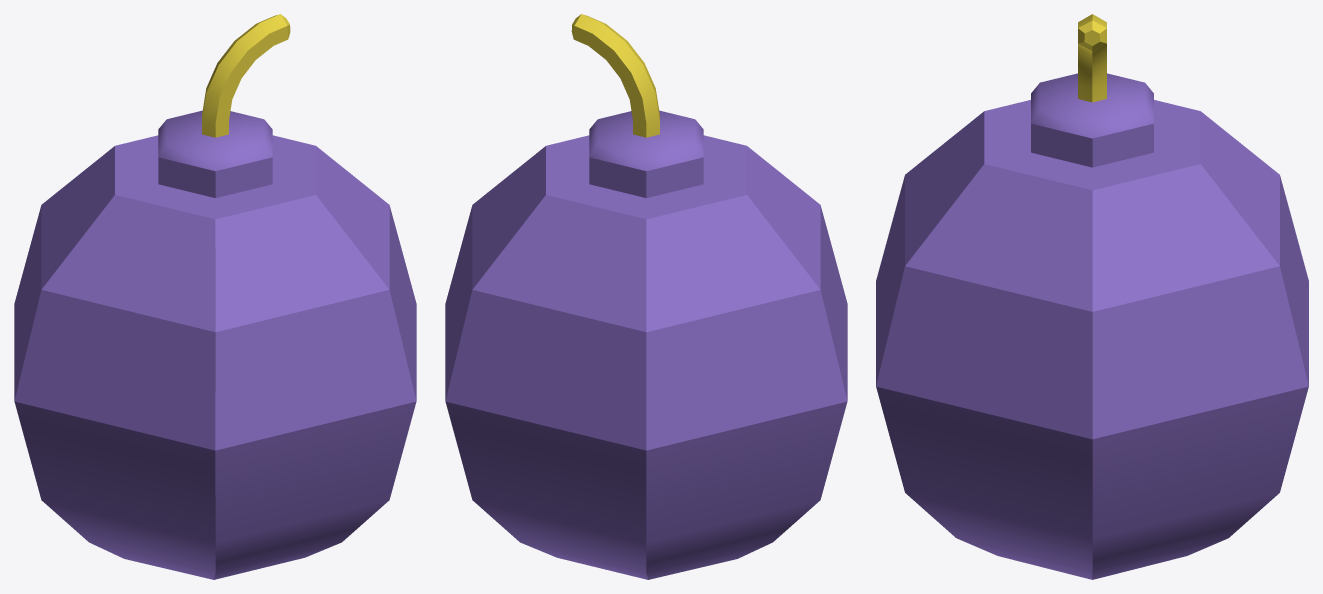
The model's file is bomb_trap.fbx.
3 views of the same model, side by side, from view 1: azimuth 30°, elevation 25°; view 2: azimuth 150°, elevation 25°; view 3: azimuth 270°, elevation 25° (orthographic). The views are drawn at different scales.
Visible parts, largest first — view 1: bomb_body, bomb_string; view 2: bomb_body, bomb_string; view 3: bomb_body, bomb_string.
Part boxes in pixels (x1,y1,x2,y2): bomb_body: (14,110,416,579); bomb_string: (202,14,290,137); bomb_body: (445,110,847,579); bomb_string: (571,14,659,137); bomb_body: (876,73,1308,579); bomb_string: (1078,14,1106,102).
Size of the model in its own units: 30 by 38.01 by 25.98.
